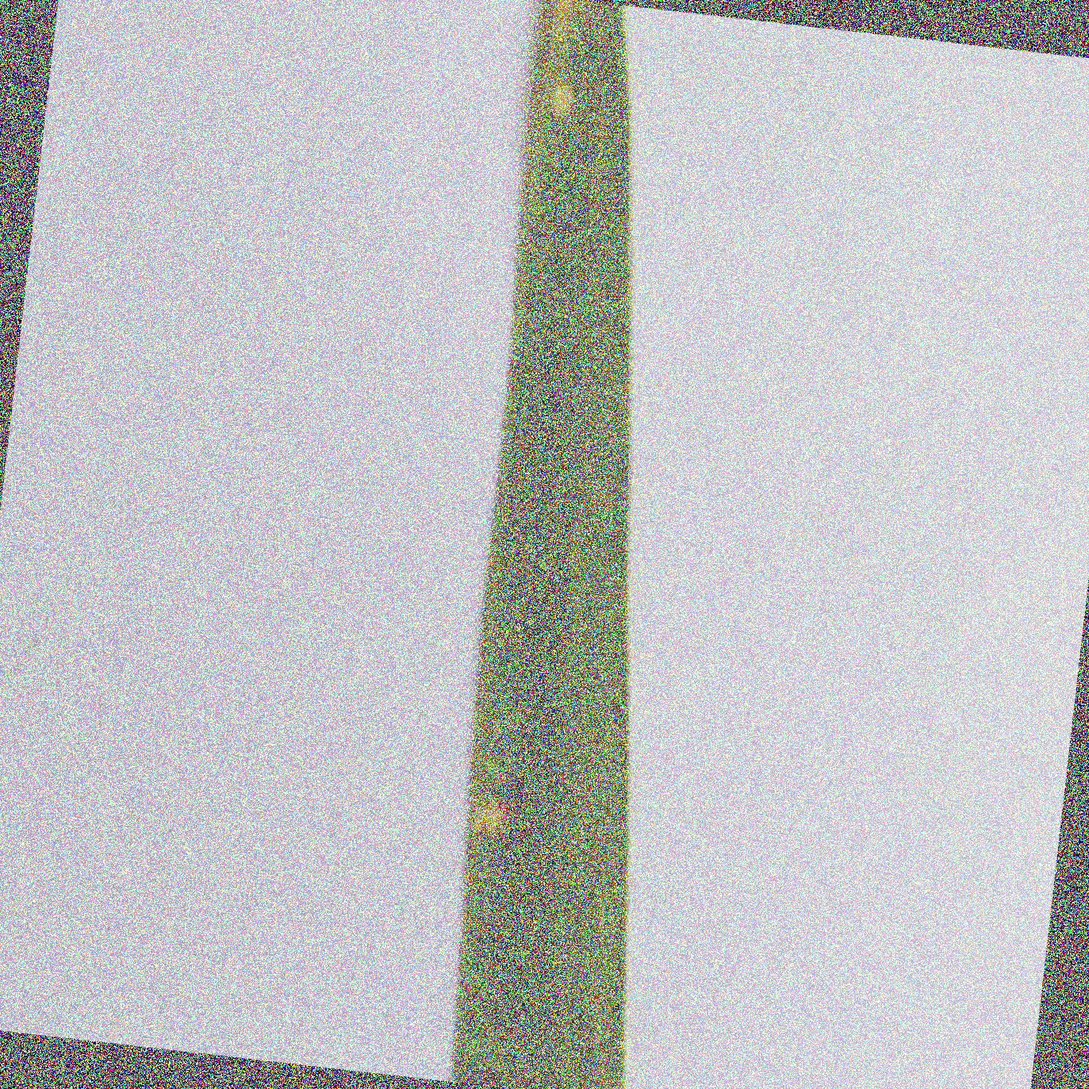Brown_Spot: (463, 765, 548, 849), (526, 68, 588, 131)
